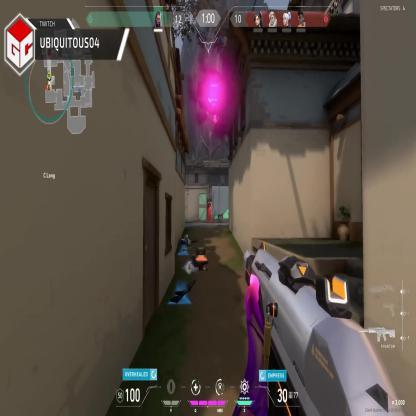enemy: (207, 203, 212, 222)
enemy_head: (208, 204, 210, 208)
